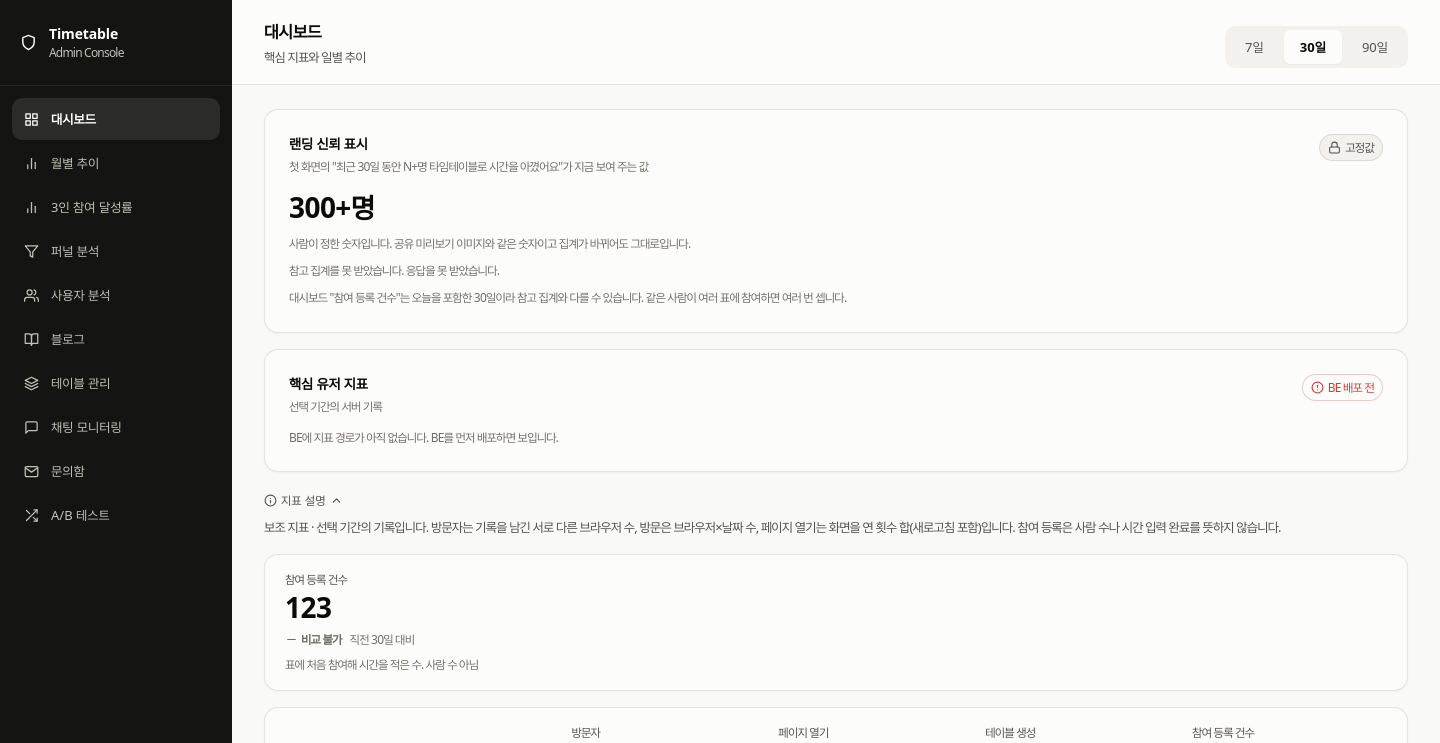
Test case: 구 입력 지표를 참여 지표로 표시하지 않는다
Expected: the text "123" is shown, [285,588,331,626]
Click the button "3인 참여 달성률" at [116, 207], box [12,186,220,228]
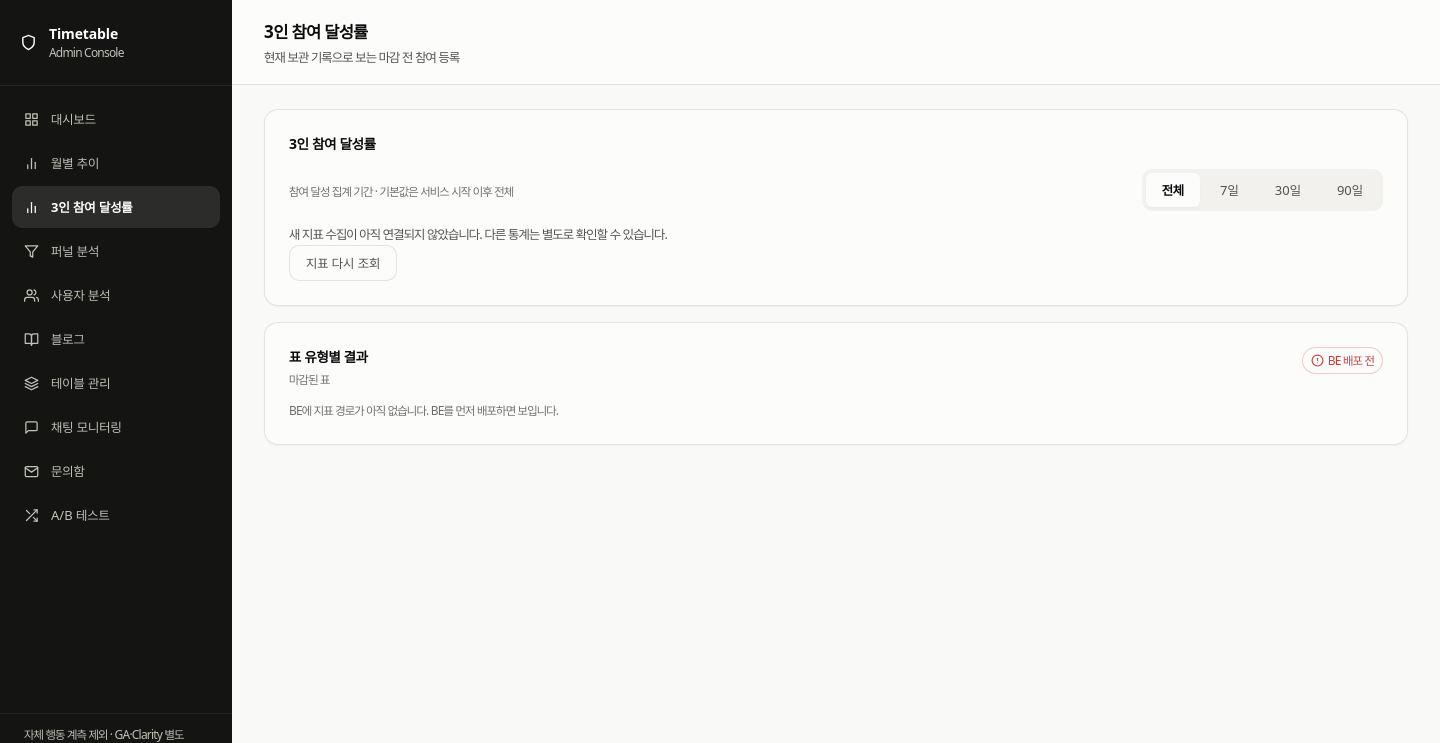
Result: the text "새 지표 수집이 아직 연결되지 않았습니다. 다른 통계는 별도로 확인할 수 있습니다." is shown at [289,225,667,243]
